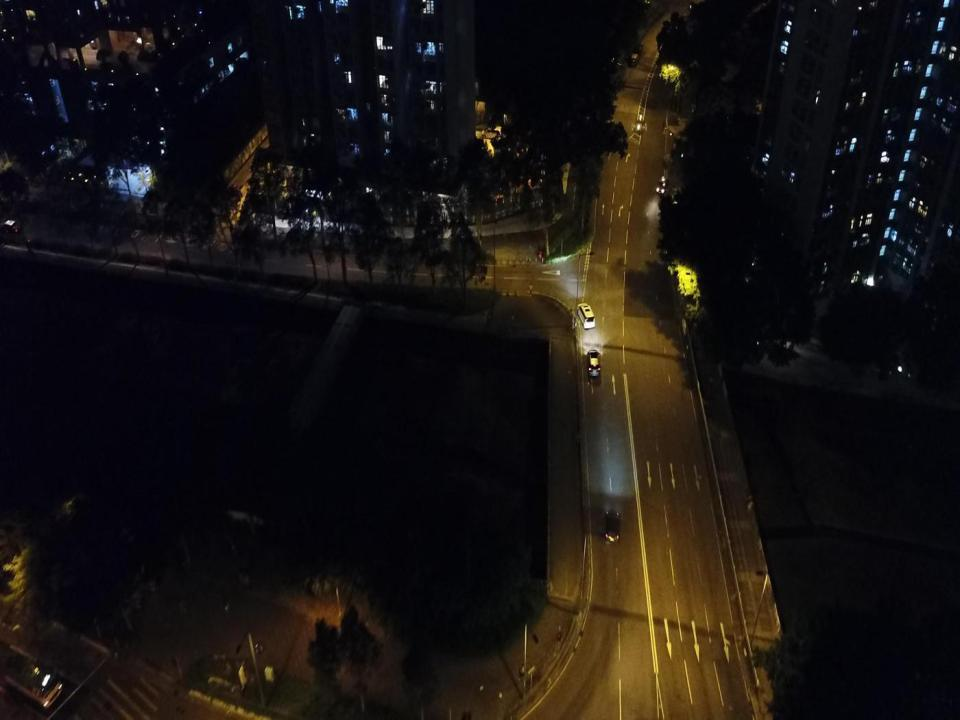car: (604, 510, 621, 545), (576, 302, 595, 329), (0, 218, 23, 238), (587, 349, 601, 377), (655, 175, 670, 194)
truck: (629, 41, 643, 67)
